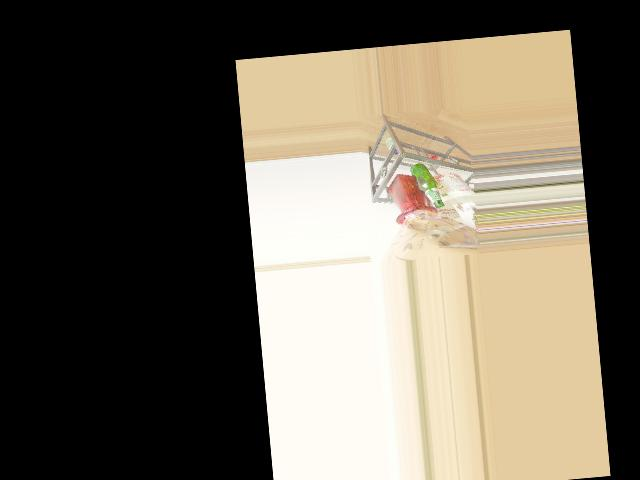beer: (409, 161, 444, 210)
